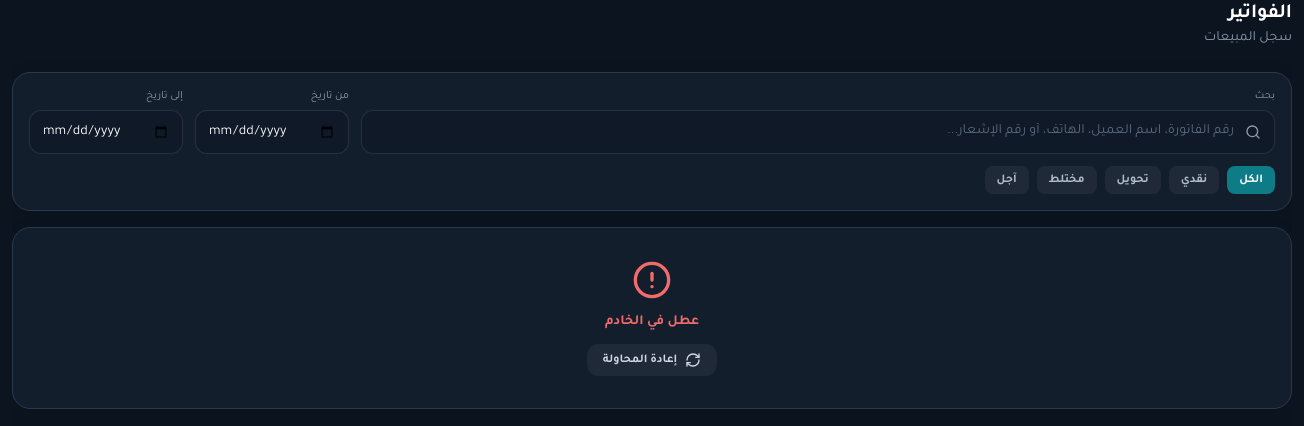
صفحة الفواتير › تعرض الخطأ مع إعادة المحاولة
Expected: the message shows "عطل في الخادم", [605, 314, 699, 328]
Click the button "إعادة المحاولة" at [652, 360], box [587, 344, 717, 376]
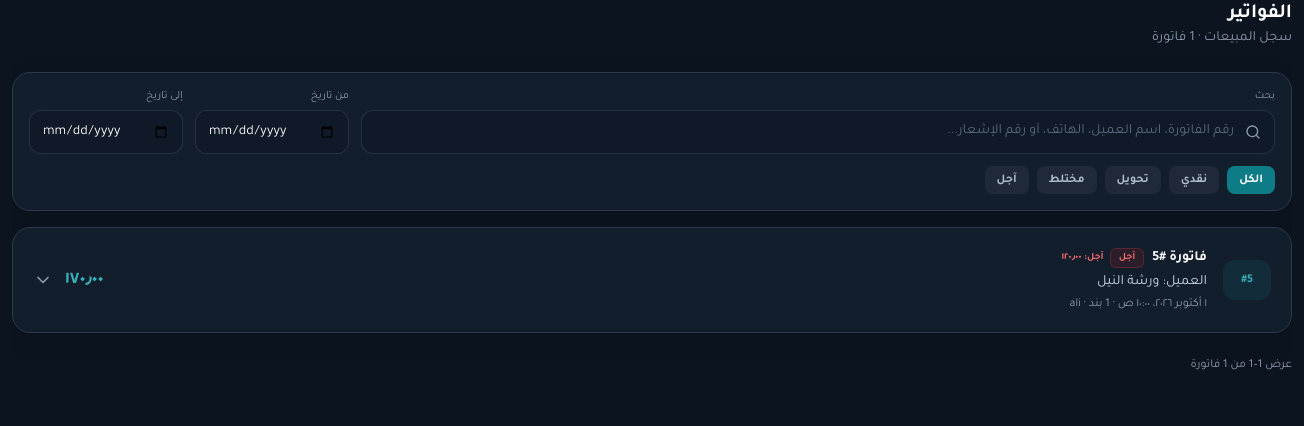
Now the button "فاتورة #5" is shown, box [13, 228, 1291, 332]
